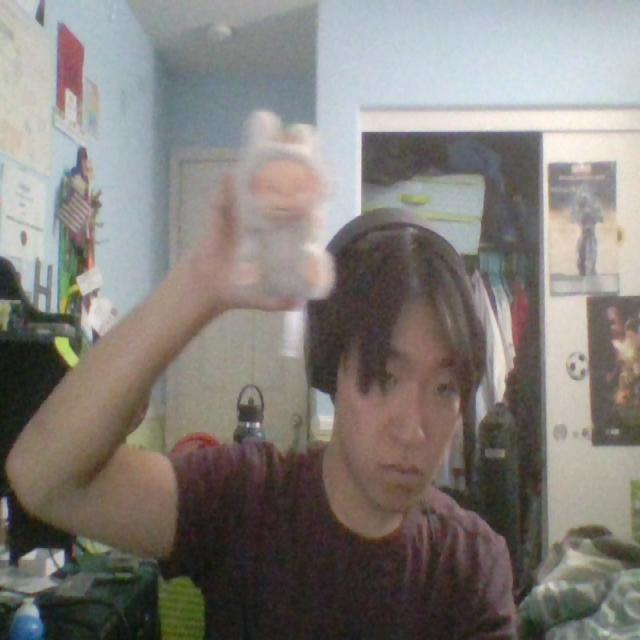labubu: (228, 112, 332, 304)
